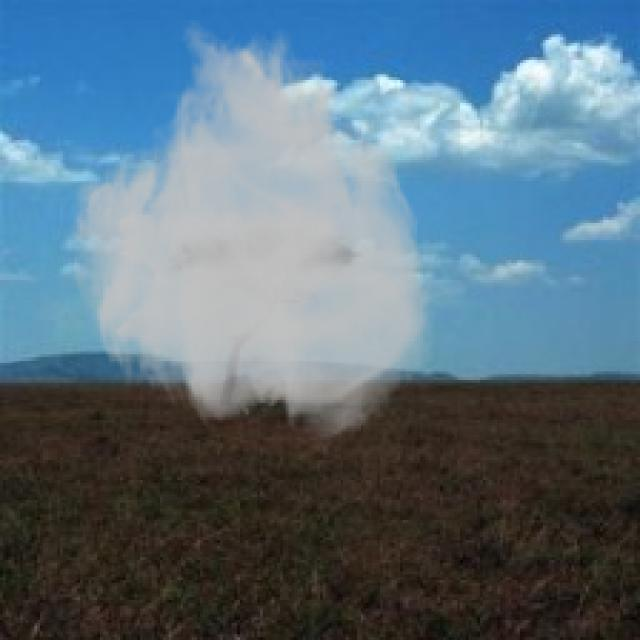smoke: (69, 17, 437, 443)
